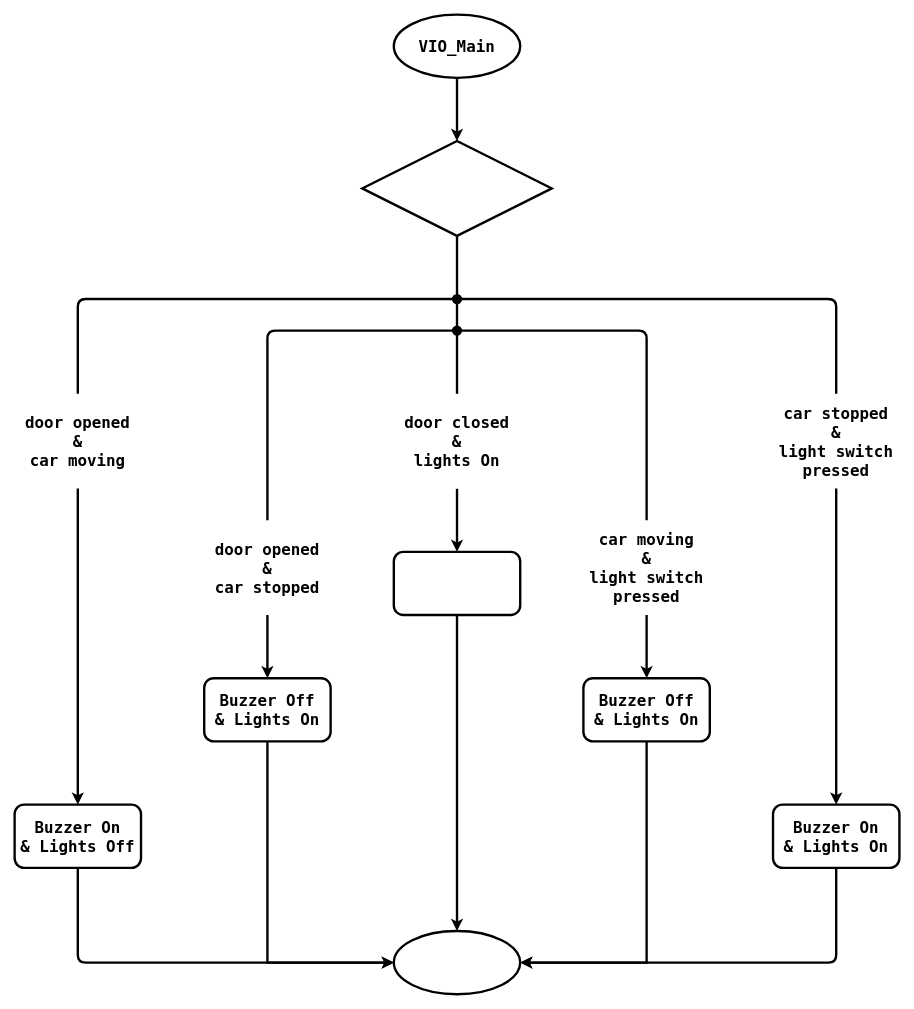
This 914x1009 diagram has some shape labels left out. Here are the shapes that lost their labels. From the top down, the centre of each, then its label:
At (457,188): "Evaluate sensor values".
At (456,583): "wait 3 sec Lights Off".
At (456,962): "End".
